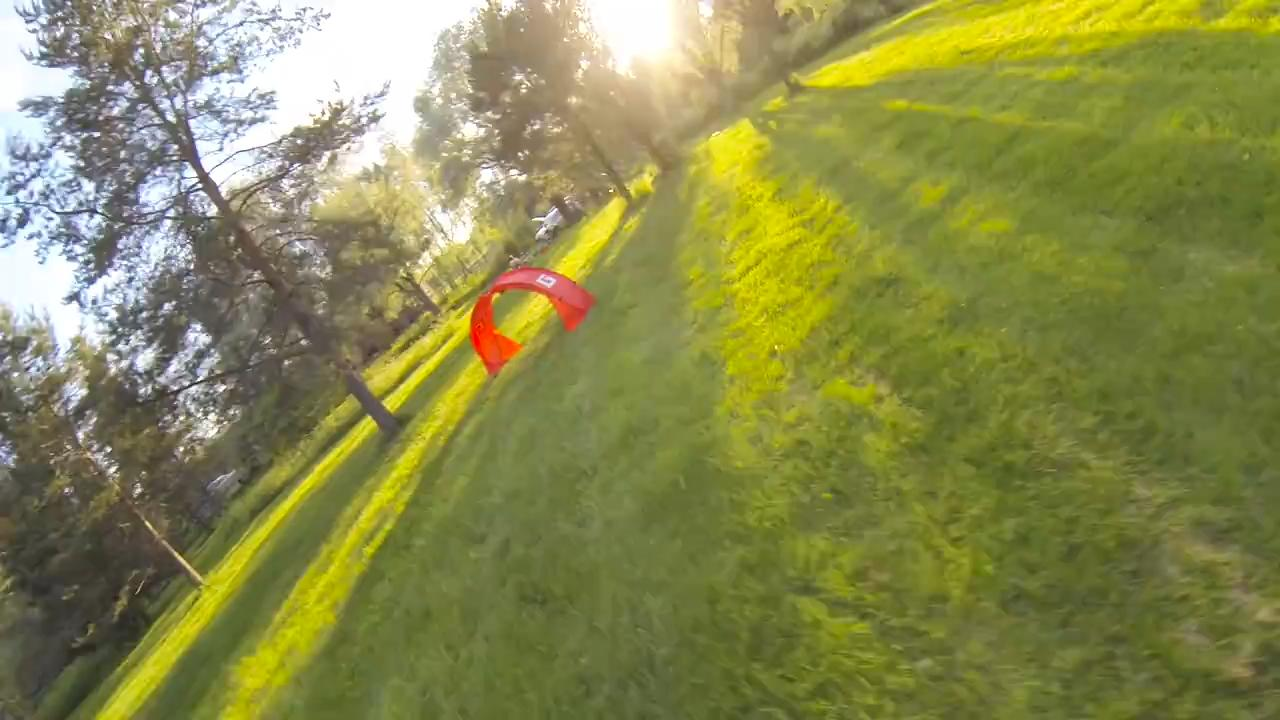gate: (468, 263, 598, 377)
